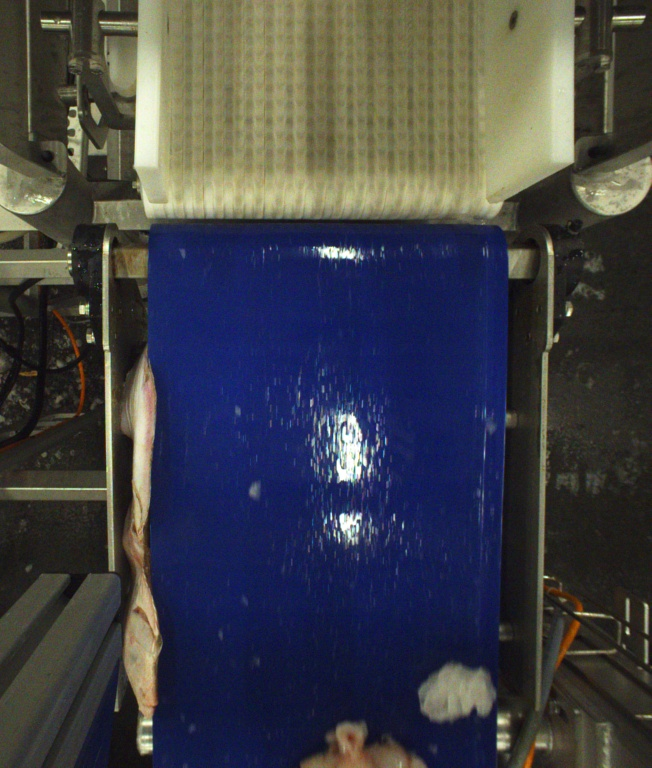ANF: (284, 719, 427, 768)
